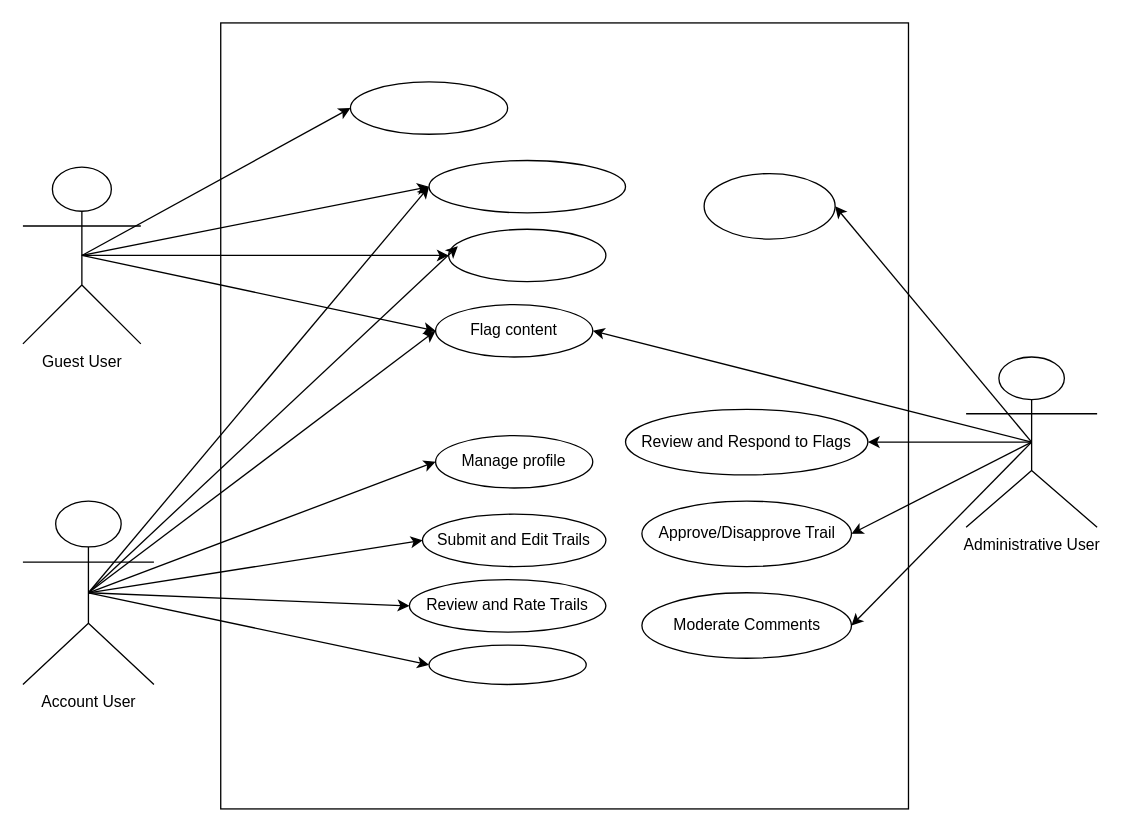
Some shapes in this 1123 by 832 pixel diagram are drawn without their labels. The centre of each missing label's shape, as x and y in pixels:
"Comment Trails" belongs at point 507,664.
"Manage Users" belongs at point 769,205.
"Register Account" belongs at point 428,107.
"Search and Filter Trails" belongs at point 527,186.
"View content" belongs at point 526,255.
